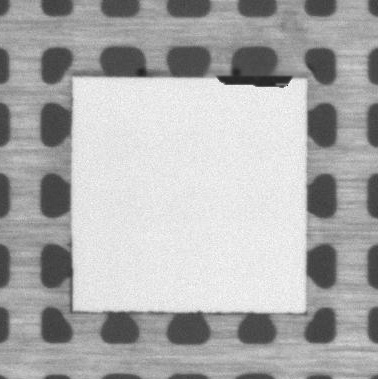DIE_BROKEN: (218, 70, 294, 89)
